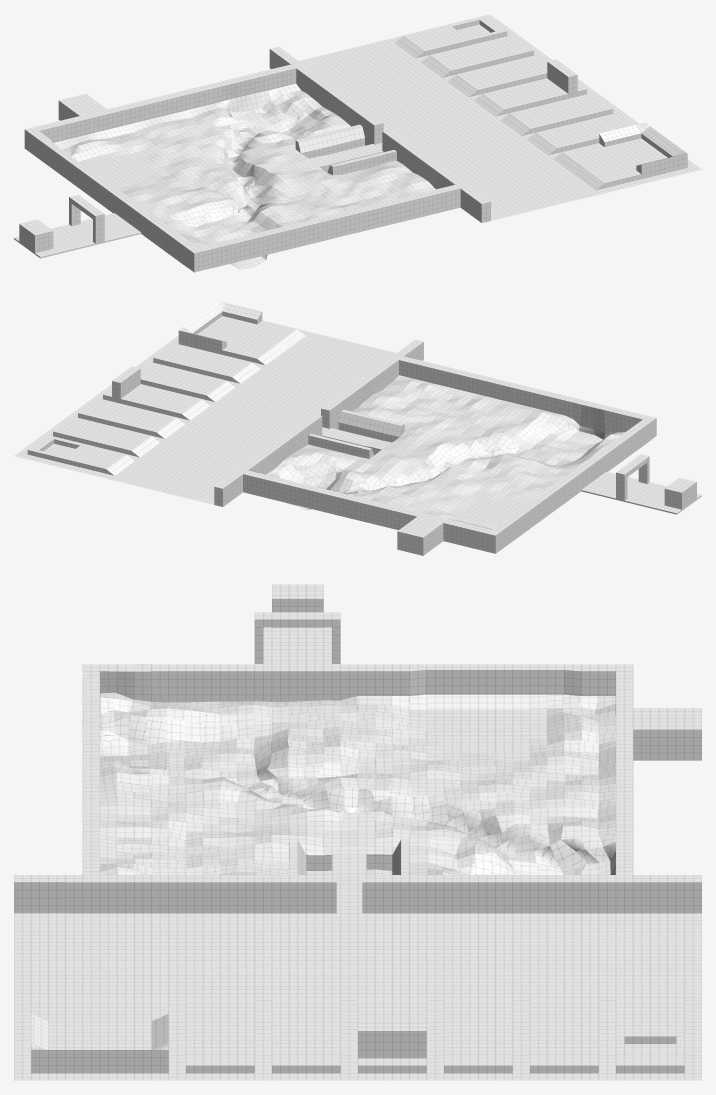
Rendered from ExampleStage.glb.
3 renders of one model, top to bottom at view 1: azimuth 30°, elevation 25°; view 2: azimuth 150°, elevation 25°; view 3: azimuth 270°, elevation 25°, orthographic. The views are drawn at different scales.
Parts seen in each view (by area): view 1: ExampleStage; view 2: ExampleStage; view 3: ExampleStage.
Part boxes in pixels (x1,y1,x2,y2): ExampleStage: [14, 14, 701, 272]; ExampleStage: [14, 301, 701, 555]; ExampleStage: [14, 584, 701, 1080].
Size of the model in its own units: 128 by 9.4 by 80.
1 material, 1 textured.
